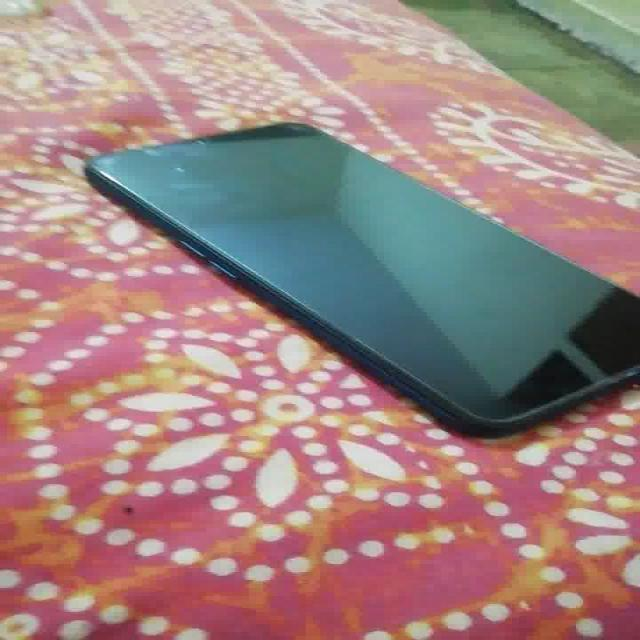Phone: (83, 116, 640, 450)
